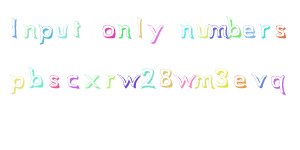2: (139, 64, 158, 91)
3: (214, 64, 231, 91)
8: (157, 65, 176, 91)
b: (28, 64, 47, 93), (227, 13, 242, 44)
c: (65, 71, 82, 90)
e: (243, 18, 257, 43), (233, 72, 248, 91)
l: (4, 13, 22, 42), (134, 14, 146, 41)
m: (195, 68, 215, 93), (209, 21, 228, 42)
n: (20, 17, 38, 40), (177, 20, 195, 42), (118, 20, 133, 43)
o: (97, 18, 117, 46)
p: (7, 69, 26, 95), (38, 19, 54, 46)
q: (270, 73, 291, 96)
r: (258, 21, 272, 42), (103, 70, 117, 89)
s: (273, 19, 290, 44), (48, 69, 64, 92)
t: (71, 18, 84, 41)
u: (55, 19, 70, 42), (195, 21, 210, 42)
v: (251, 69, 270, 92)
w: (115, 71, 141, 91), (174, 69, 195, 93)
x: (83, 70, 102, 92)
y: (146, 19, 166, 47)
